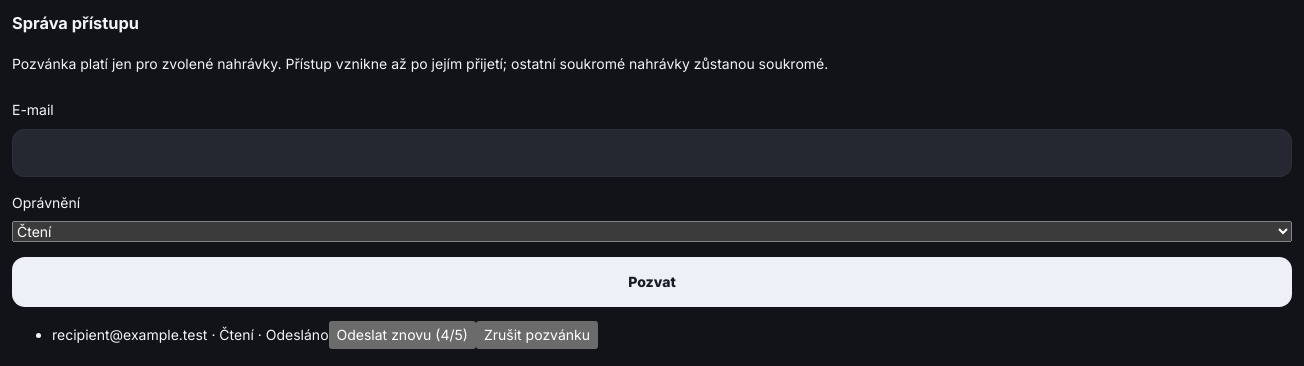
manager outcomes stay truthful › describes changed=true as invitation cancellation, never active access removal
Click the button "Zrušit pozvánku" at (537, 335), box [476,321,598,349]
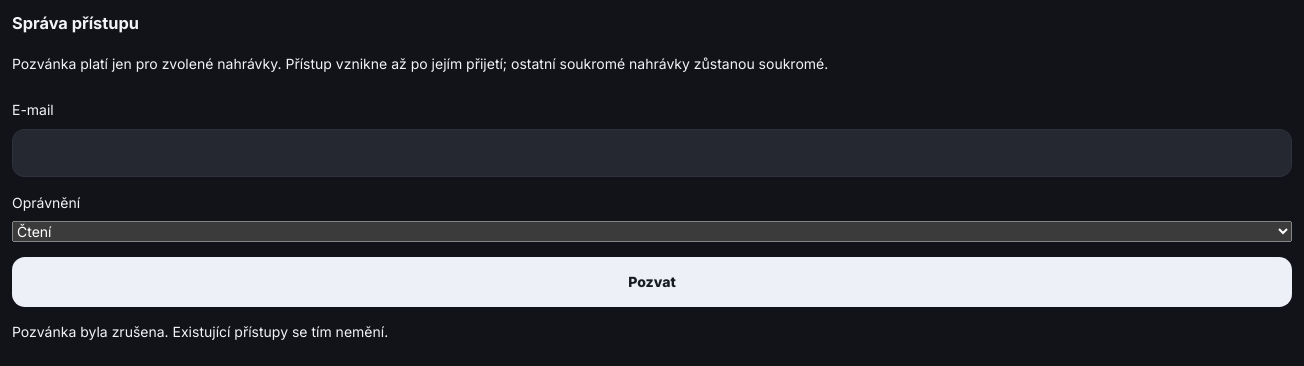
Result: the text "Pozvánka byla zrušena" is shown at [12,323,388,340]
